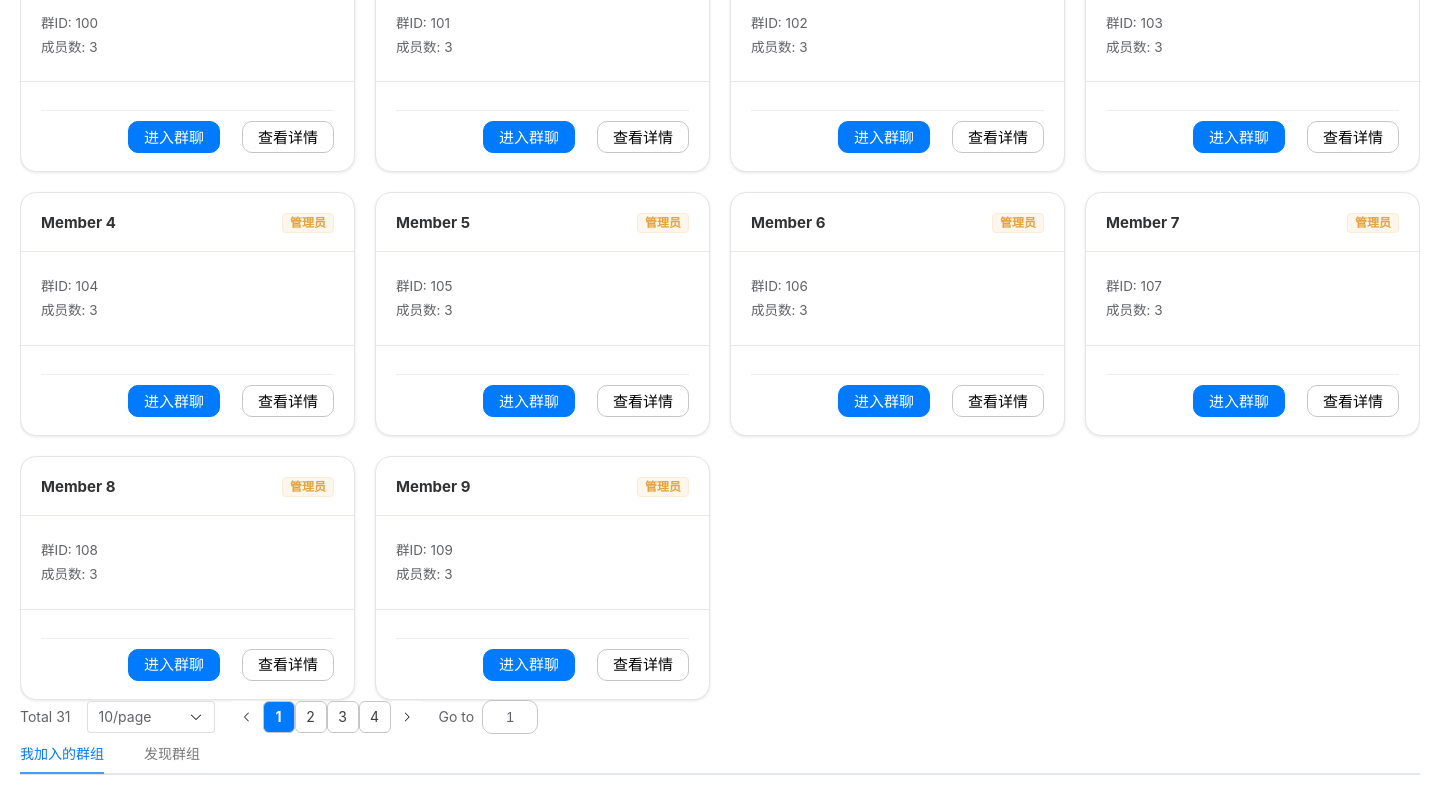
routed group page journeys with real API responses › uses discovery roles independently of the membership page in Groups
(page scrolled)
Click the tab "发现群组": [172, 754] box [144, 745, 200, 762]
(page scrolled)
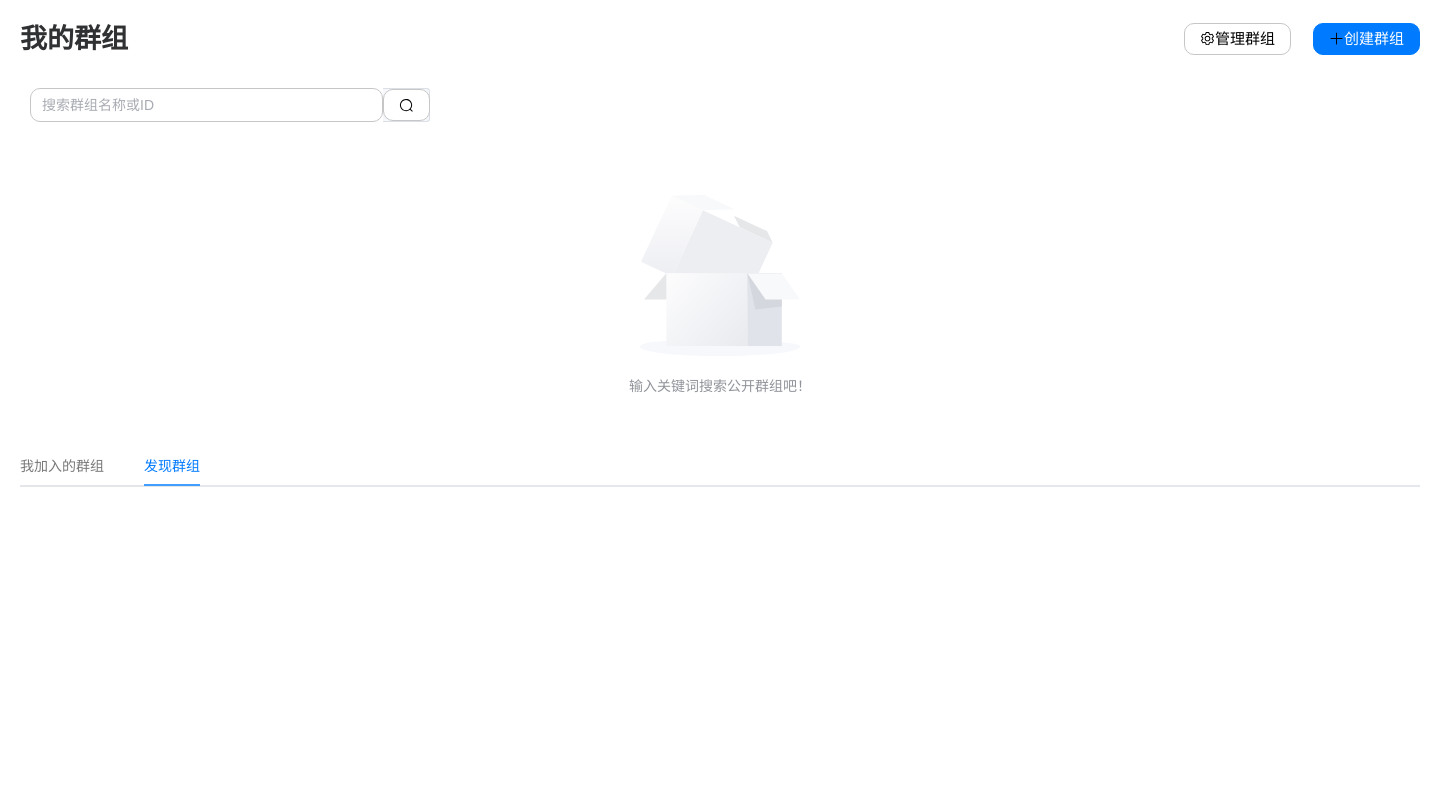
In the field with placeholder "搜索群组名称或ID": [206, 105] box [42, 90, 371, 120], type "Discovery"
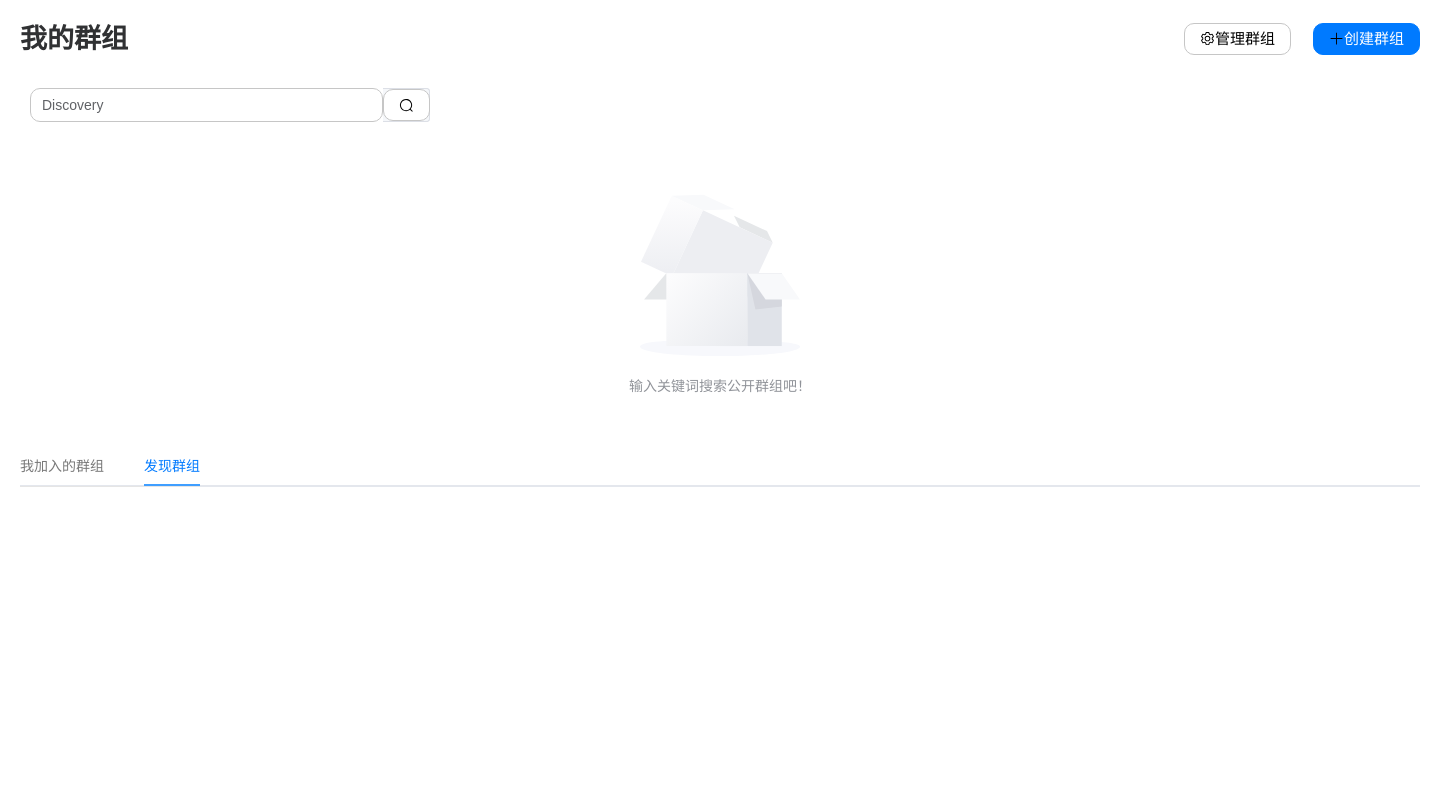
Click the 3rd button: [406, 105] box [383, 89, 430, 121]
(page scrolled)
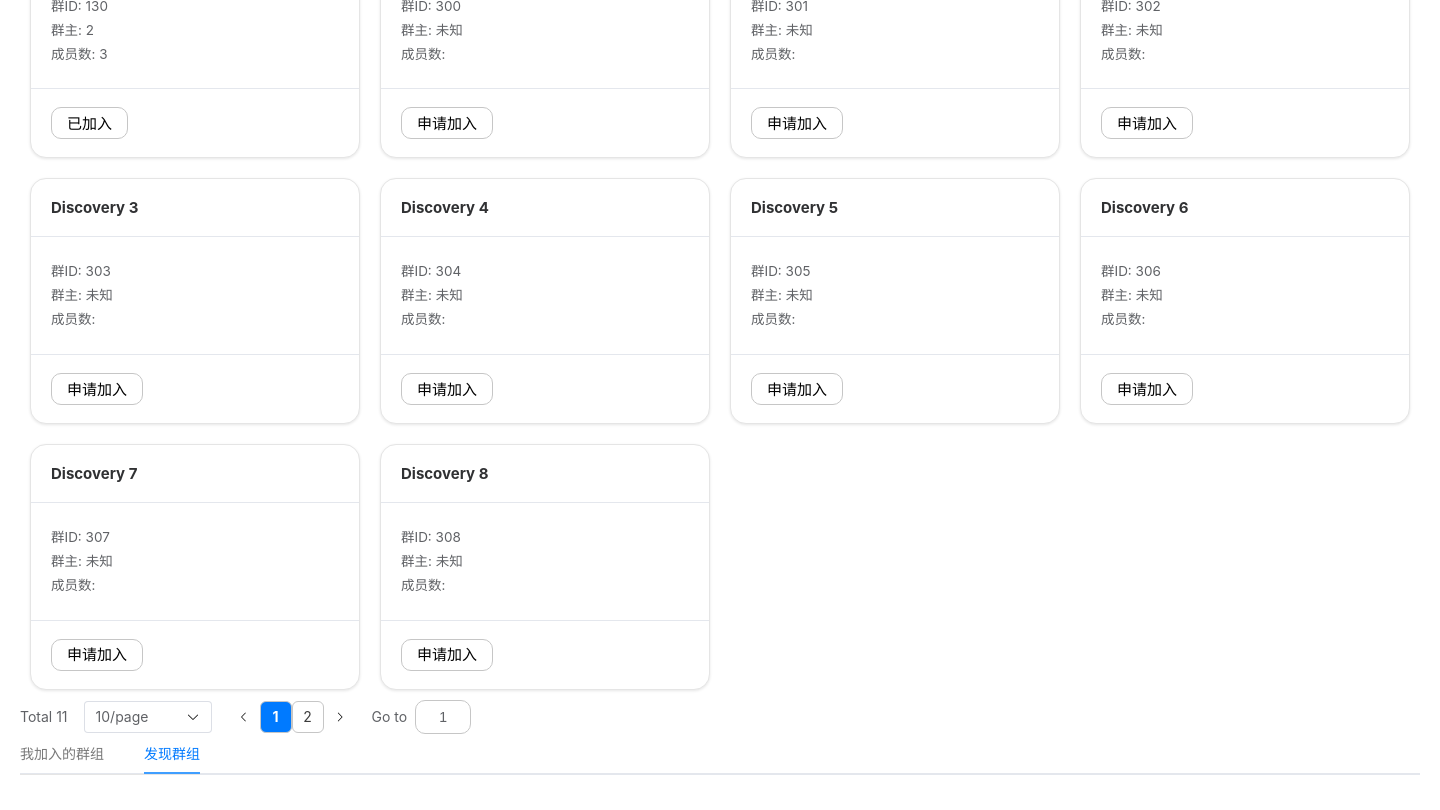
Now the number of elements with class "group-card" is 10
Now the button "已加入" is disabled, box [51, 108, 128, 140]
Click the button with class "btn-next": [340, 717] box [324, 701, 356, 733]
(page scrolled)
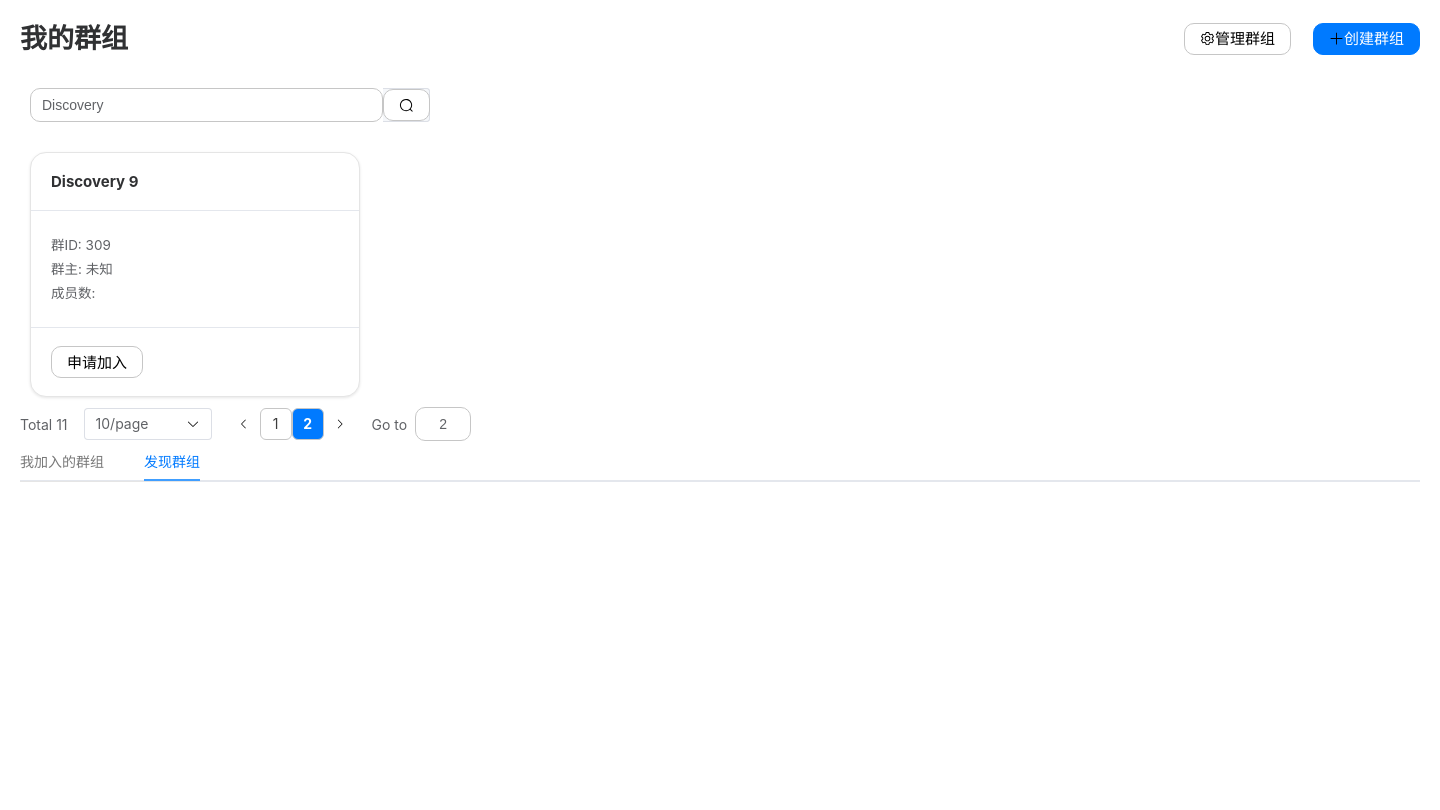
Now the number of elements with class "group-card" is 1, box [30, 152, 360, 398]
Now the panel shows "Discovery 9", box [51, 172, 138, 191]
